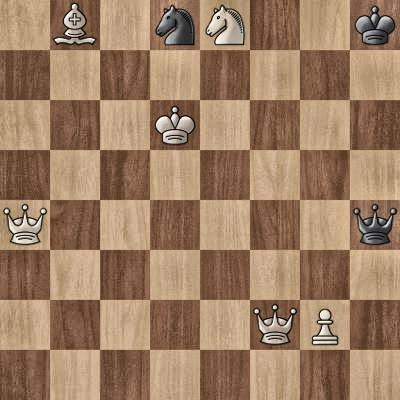black-king: (350, 0, 400, 50)
black-knight: (150, 0, 200, 50)
black-queen: (350, 200, 400, 250)
white-bishop: (50, 0, 100, 50)
white-king: (150, 100, 200, 150)
white-knight: (200, 0, 250, 50)
white-pawn: (300, 300, 350, 350)
white-queen: (0, 200, 50, 250), (250, 300, 300, 350)
